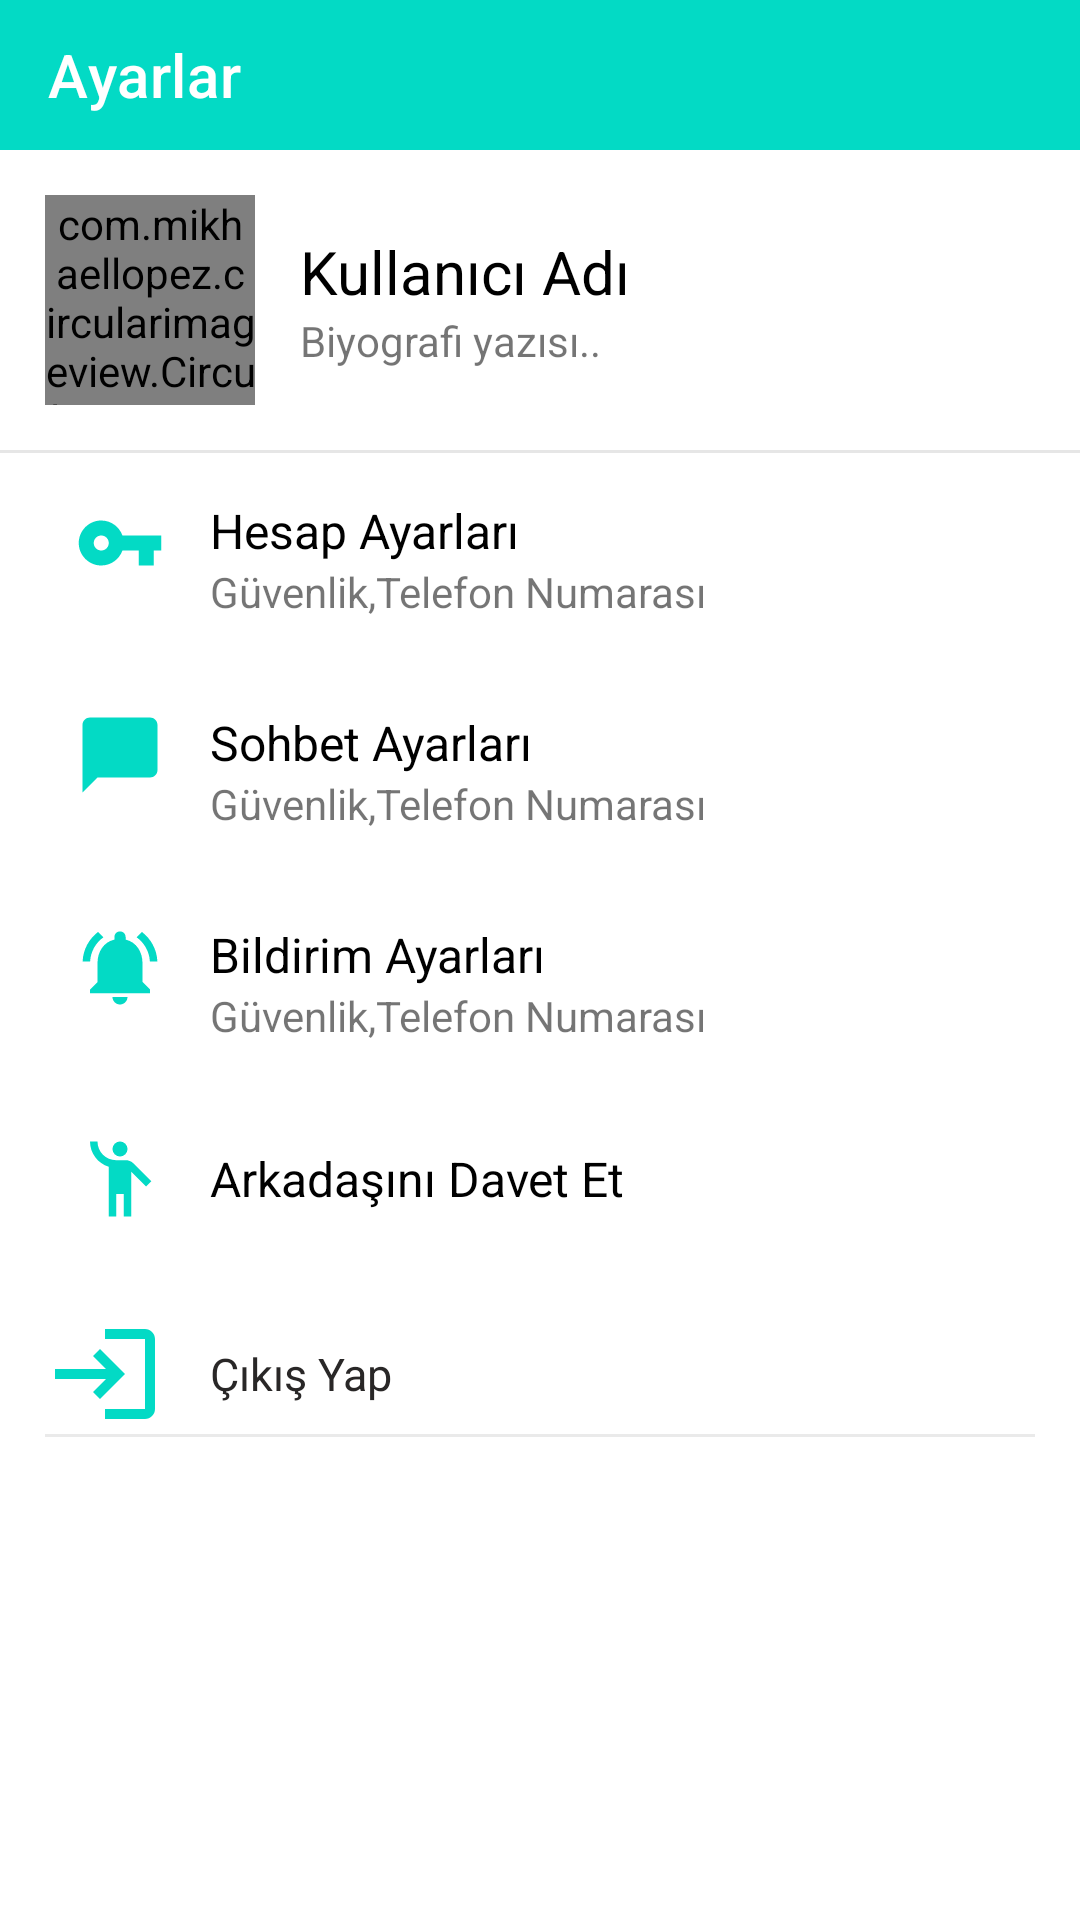

Where to tap for icons on this 1080 x 1920 app screen, as point (x, y):
accchat: point (120, 755)
accinvite: point (121, 1179)
accnotifications: point (120, 968)
accountkey: point (120, 543)
